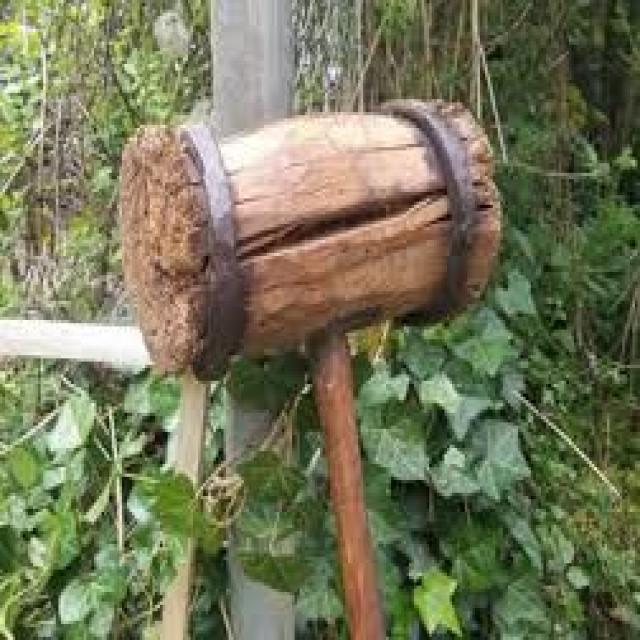hammer: (110, 93, 507, 640)
